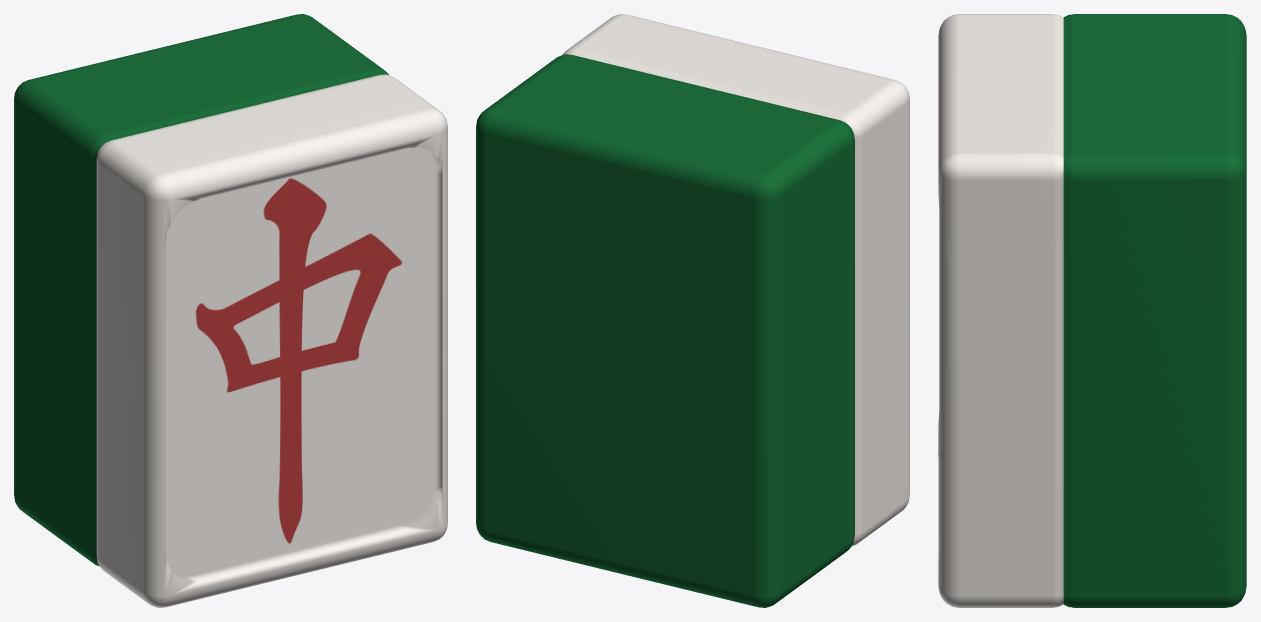
The model's file is chun-h71qtv1t.glb.
3 views of the same model, side by side, from view 1: azimuth 30°, elevation 25°; view 2: azimuth 150°, elevation 25°; view 3: azimuth 270°, elevation 25° (orthographic). The views are drawn at different scales.
Visible parts, largest first — view 1: TileBody, FacePanel; view 2: TileBody; view 3: TileBody.
Part boxes in pixels (x1,y1,x2,y2): TileBody: (14, 14, 447, 607); FacePanel: (165, 148, 428, 569); TileBody: (476, 14, 909, 607); TileBody: (938, 14, 1246, 607).
Size of the model in its own units: 19 by 26 by 16.
Materials: 3 (1 with a texture image).
